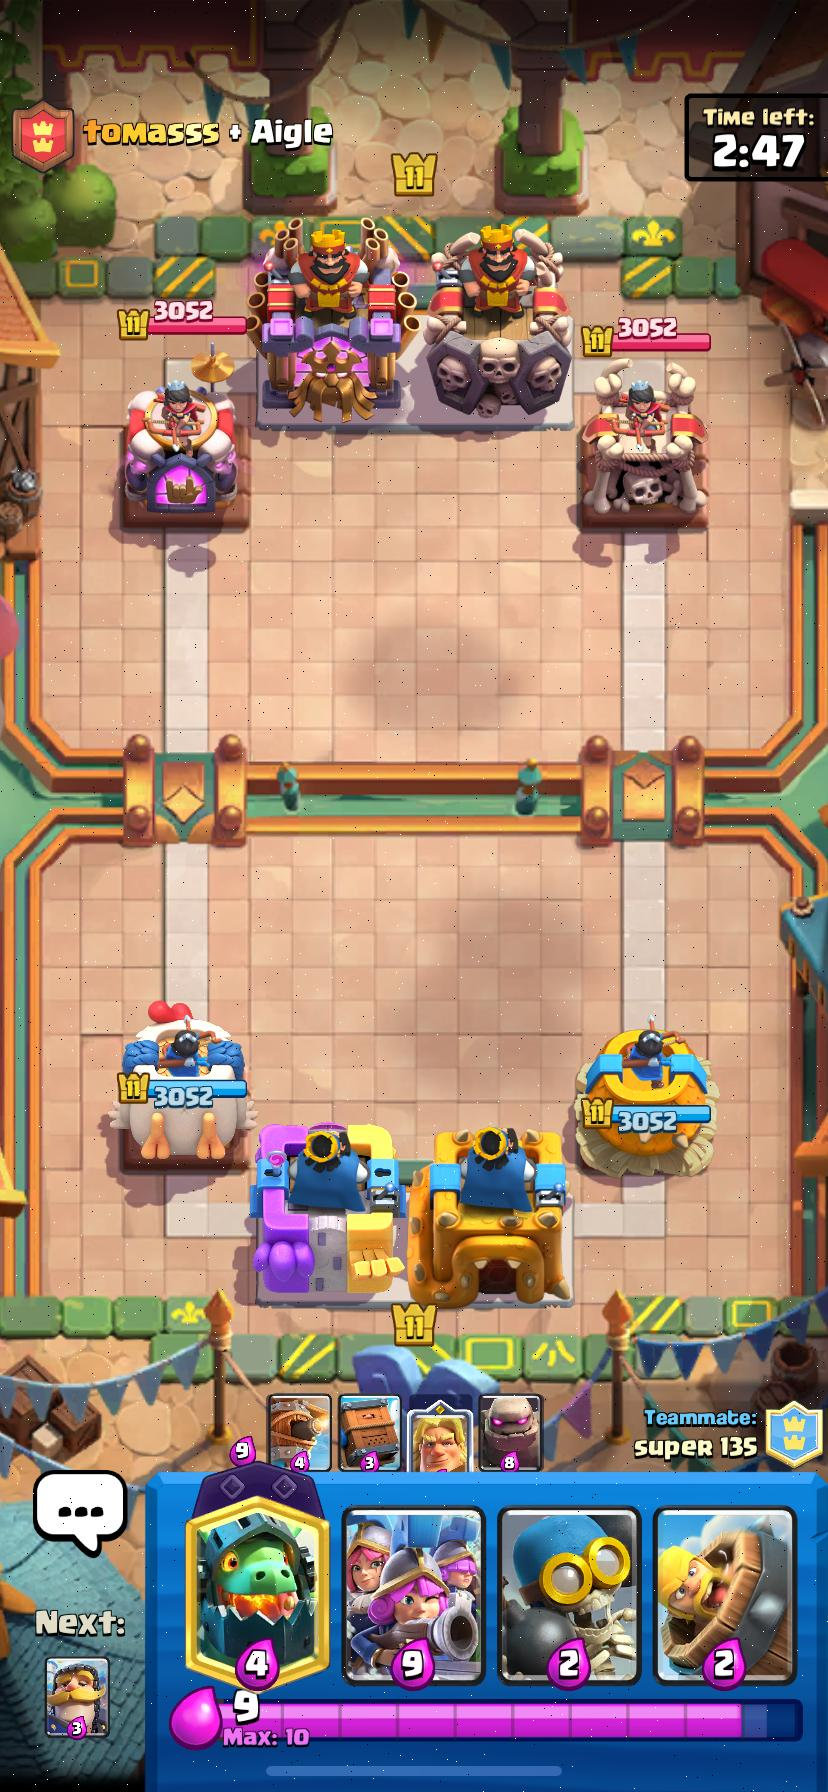EKingTower: (247, 219, 417, 421), (423, 225, 571, 425)
EnemyPrincessTower: (579, 363, 707, 523), (124, 379, 238, 515)
OwnKingTower: (408, 1128, 571, 1307), (252, 1123, 403, 1302)
OwnPrincessTower: (109, 1001, 255, 1160), (576, 1018, 717, 1175)
